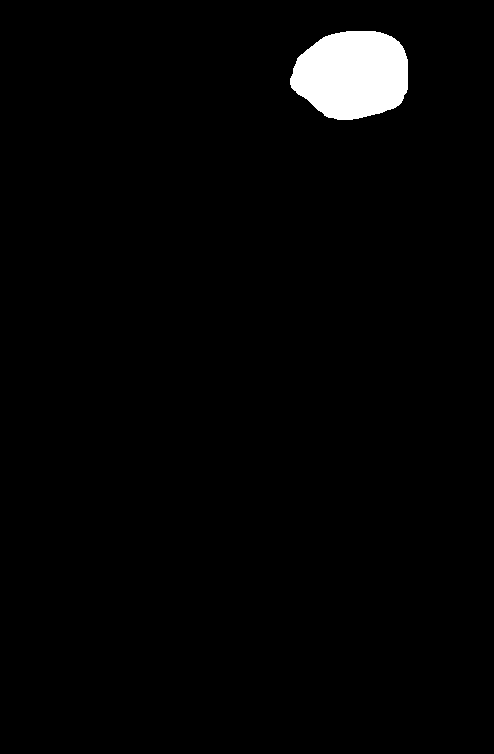veins_detect: (278, 27, 424, 126)
veins_seg: (290, 32, 407, 120)
